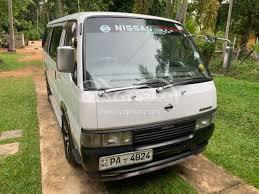van: (42, 10, 221, 178)
